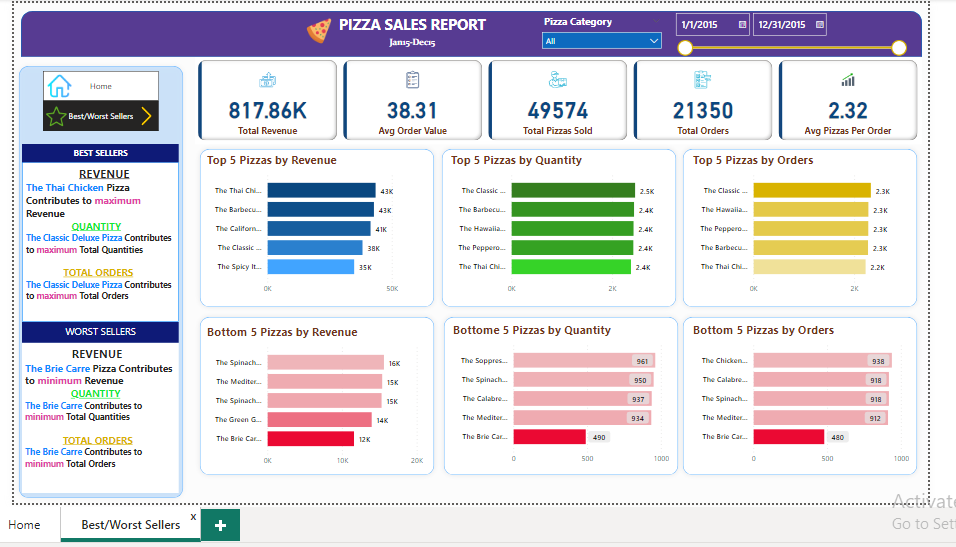

This screenshot's page, from the dashboard's own definition file:
{"tool":"powerbi","page":{"name":"Best/Worst Sellers","canvas":[1500,820],"ordinal":1},"visuals":[{"type":"shape","box":[0,95.1,285.4,724.9],"z":0},{"type":"cardVisual","fields":{"Data":["pizza_sales.Total Revenue","pizza_sales.Avg Order Value","pizza_sales.Total Pizzas Sold","pizza_sales.Total Orders","pizza_sales.Avg Pizzas Per Order"]},"box":[296.8,88.6,1192.3,142.7],"z":1000},{"type":"shape","box":[11.5,13.1,1477.6,75.4],"z":2000},{"type":"textbox","box":[500,12.3,306.2,42],"z":3000},{"type":"textbox","box":[603.7,49.4,98.8,28.4],"z":4000},{"type":"image","box":[471.6,19.8,55.6,51.9],"z":5000},{"type":"shape","box":[296.8,231.2,400,275.5],"z":6000},{"type":"textbox","box":[13.1,523.2,257.5,34.4],"z":7000},{"type":"textbox","box":[13.1,260.8,257.5,262.4],"z":8000},{"type":"textbox","box":[13.1,231.2,257.5,29.5],"z":9000},{"type":"textbox","box":[13.1,557.6,257.5,246],"z":10000},{"type":"slicer","fields":{"Values":["pizza_sales.pizza_category"]},"box":[856.1,14.8,216.5,64],"z":11000},{"type":"slicer","fields":{"Values":["pizza_sales.order_date"]},"box":[1072.6,6.6,400.2,80],"z":12000},{"type":"shape","box":[1089,231.2,400.2,275.5],"z":13000},{"type":"shape","box":[693.7,231.2,400.2,275.5],"z":14000},{"type":"shape","box":[296.8,506.8,400.2,275.5],"z":14001},{"type":"shape","box":[697,506.8,400.2,275.5],"z":14002},{"type":"shape","box":[1089,506.8,400.2,275.5],"z":14003},{"type":"barChart","title":"Top 5 Pizzas by Revenue","fields":{"Y":["pizza_sales.Total Revenue"],"Category":["pizza_sales.pizza_name"]},"box":[311.6,244.4,364.1,242.7],"z":14004},{"type":"barChart","title":"Bottom 5 Pizzas by Revenue","fields":{"Y":["pizza_sales.Total Revenue"],"Category":["pizza_sales.pizza_name"]},"box":[311.6,526.4,364.1,242.7],"z":14005},{"type":"barChart","title":"Top 5 Pizzas by Quantity","fields":{"Category":["pizza_sales.pizza_name"],"Y":["pizza_sales.Total Pizzas Sold"]},"box":[711.8,244.4,364.1,242.7],"z":14006},{"type":"barChart","title":"Bottome 5 Pizzas by Quantity","fields":{"Category":["pizza_sales.pizza_name"],"Y":["pizza_sales.Total Pizzas Sold"]},"box":[715,523.2,364.1,242.7],"z":14007},{"type":"barChart","title":"Top 5 Pizzas by Orders","fields":{"Category":["pizza_sales.pizza_name"],"Y":["pizza_sales.Total Orders"]},"box":[1108.6,244.4,364.1,242.7],"z":14008},{"type":"barChart","title":"Bottom 5 Pizzas by Orders","fields":{"Category":["pizza_sales.pizza_name"],"Y":["pizza_sales.Total Orders"]},"box":[1108.6,523.2,364.1,242.7],"z":14009},{"type":"pageNavigator","box":[47.6,160.7,190.2,49.2],"z":14010},{"type":"pageNavigator","box":[47.6,111.5,190.2,49.2],"z":14011},{"type":"image","box":[196.8,160.7,41,49.2],"z":14012},{"type":"image","box":[26.2,111.5,96.8,49.2],"z":14013},{"type":"image","box":[47.6,160.7,44.3,49.2],"z":14014}]}

Visuals, with their boxes on the page's 1500x820 design canvas (x1, y1, x2, y2). These are canvas units, not pixel positions in the 956x547 screenshot, which may show the page scaled, cropped or inside an application window:
shape: l=0, t=95, r=285, b=820
cardVisual - pizza_sales.Total Revenue x pizza_sales.Avg Order Value: l=297, t=89, r=1489, b=231
shape: l=12, t=13, r=1489, b=88
textbox: l=500, t=12, r=806, b=54
textbox: l=604, t=49, r=702, b=78
image: l=472, t=20, r=527, b=72
shape: l=297, t=231, r=697, b=507
textbox: l=13, t=523, r=271, b=558
textbox: l=13, t=261, r=271, b=523
textbox: l=13, t=231, r=271, b=261
textbox: l=13, t=558, r=271, b=804
slicer - pizza_sales.pizza_category: l=856, t=15, r=1073, b=79
slicer - pizza_sales.order_date: l=1073, t=7, r=1473, b=87
shape: l=1089, t=231, r=1489, b=507
shape: l=694, t=231, r=1094, b=507
shape: l=297, t=507, r=697, b=782
shape: l=697, t=507, r=1097, b=782
shape: l=1089, t=507, r=1489, b=782
"Top 5 Pizzas by Revenue" barChart: l=312, t=244, r=676, b=487
"Bottom 5 Pizzas by Revenue" barChart: l=312, t=526, r=676, b=769
"Top 5 Pizzas by Quantity" barChart: l=712, t=244, r=1076, b=487
"Bottome 5 Pizzas by Quantity" barChart: l=715, t=523, r=1079, b=766
"Top 5 Pizzas by Orders" barChart: l=1109, t=244, r=1473, b=487
"Bottom 5 Pizzas by Orders" barChart: l=1109, t=523, r=1473, b=766
pageNavigator: l=48, t=161, r=238, b=210
pageNavigator: l=48, t=112, r=238, b=161
image: l=197, t=161, r=238, b=210
image: l=26, t=112, r=123, b=161
image: l=48, t=161, r=92, b=210
